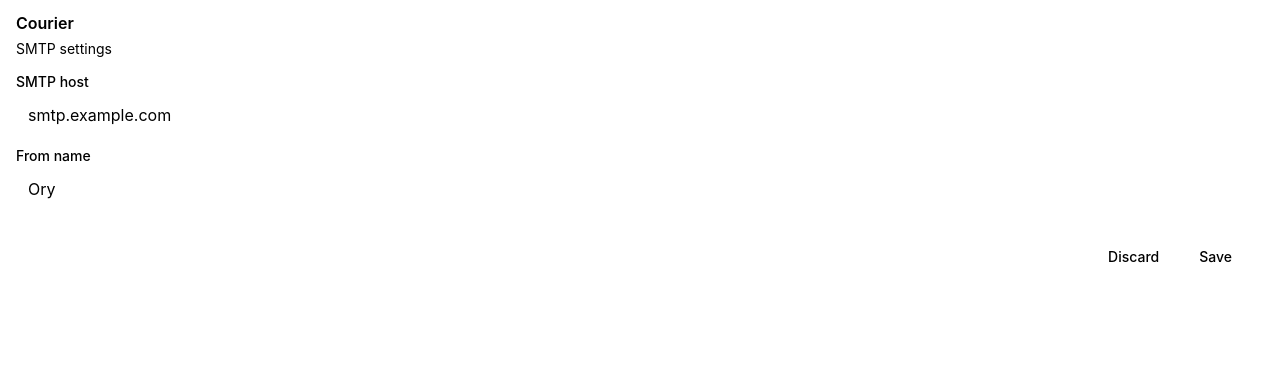
SettingsForm (FE-03) › shows a healthy success banner and toasts on a successful save
Type "Z" into the field labelled "From name" at (632, 189), box left=16, top=171, right=1248, bottom=207
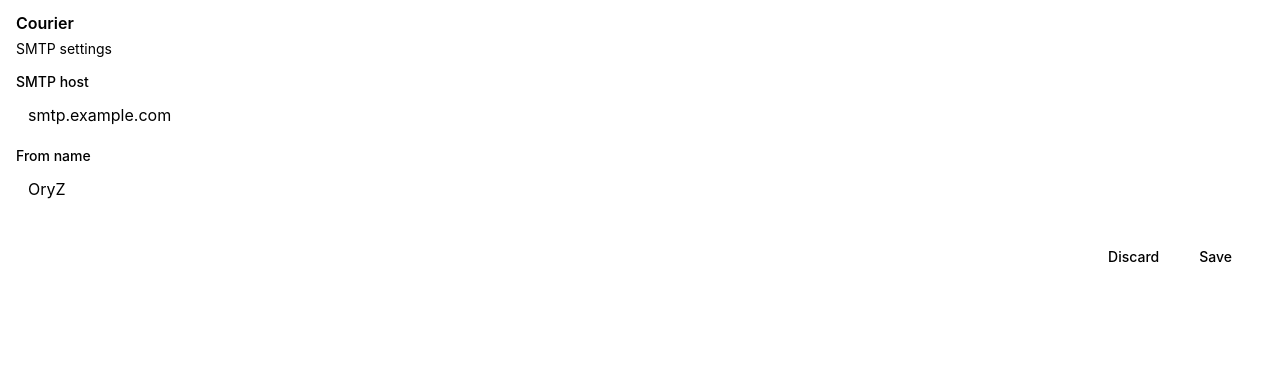
Click the button "Save" at (1216, 257), box left=1183, top=239, right=1248, bottom=275
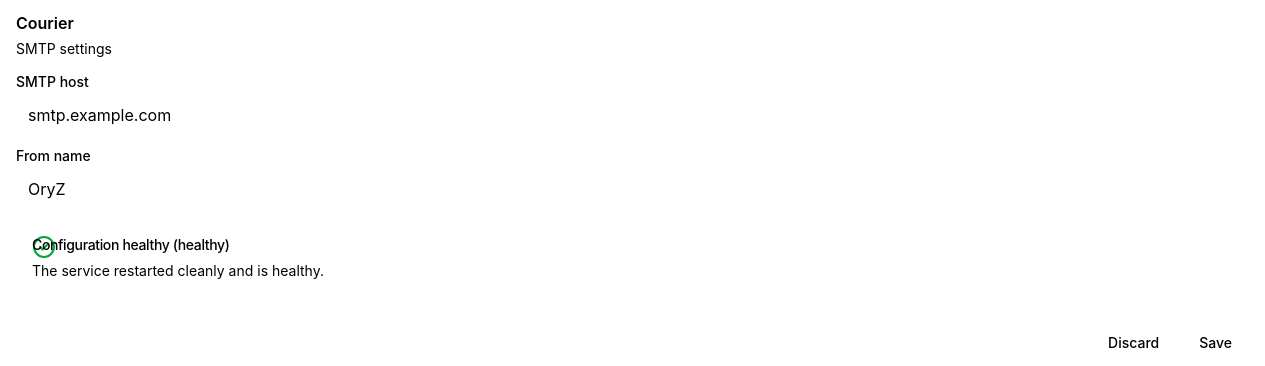
Now the message shows "healthy", box left=178, top=236, right=225, bottom=253
